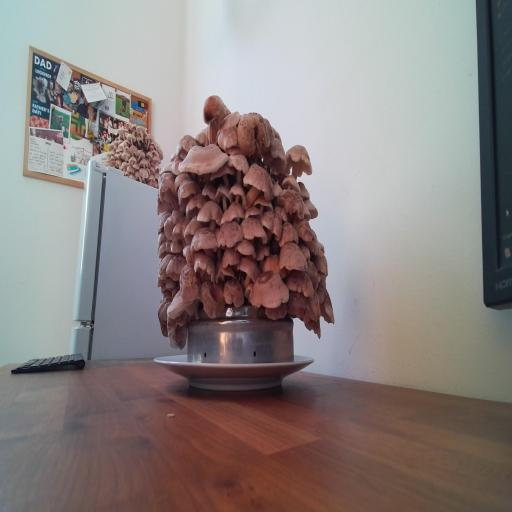Shiitake Mushroom: (189, 85, 237, 149), (176, 141, 231, 185), (166, 258, 210, 311), (192, 268, 232, 324), (256, 133, 296, 186), (182, 220, 228, 262), (269, 182, 315, 222), (157, 283, 199, 325), (220, 141, 257, 186), (241, 158, 274, 207), (237, 110, 271, 156), (249, 270, 290, 308), (279, 287, 319, 323), (167, 126, 204, 163), (178, 184, 213, 223), (233, 247, 263, 291), (160, 245, 191, 287), (176, 209, 211, 246), (281, 266, 320, 299), (158, 201, 187, 244), (285, 212, 322, 245), (195, 194, 225, 233), (306, 244, 336, 282), (209, 176, 239, 212), (257, 250, 293, 280), (285, 141, 313, 179), (315, 282, 336, 330), (168, 208, 193, 248), (247, 191, 280, 221), (223, 178, 255, 208), (214, 220, 246, 249), (215, 198, 249, 225), (210, 252, 236, 287), (279, 240, 308, 271), (300, 257, 326, 290), (209, 156, 235, 188), (250, 238, 275, 271), (167, 165, 196, 193), (165, 310, 191, 341), (158, 171, 178, 209), (297, 195, 324, 223), (302, 230, 327, 260), (222, 276, 245, 308), (193, 250, 216, 282), (261, 300, 291, 324), (155, 247, 174, 284), (260, 210, 283, 240), (305, 286, 323, 324), (217, 244, 245, 268), (151, 196, 178, 220), (216, 124, 239, 152), (151, 236, 177, 260), (168, 320, 188, 351), (156, 296, 171, 337), (241, 216, 267, 239), (153, 206, 173, 235), (232, 237, 259, 258), (278, 220, 299, 247), (217, 109, 244, 129), (294, 238, 316, 262), (294, 177, 313, 204), (161, 274, 180, 298), (263, 114, 276, 147), (280, 173, 302, 192), (151, 228, 170, 250), (169, 153, 185, 178), (199, 182, 220, 201), (268, 178, 285, 199), (194, 126, 210, 148), (272, 205, 292, 222), (243, 203, 262, 218), (243, 280, 254, 305), (153, 272, 165, 289), (158, 162, 174, 174), (317, 273, 328, 290), (170, 240, 184, 253)
